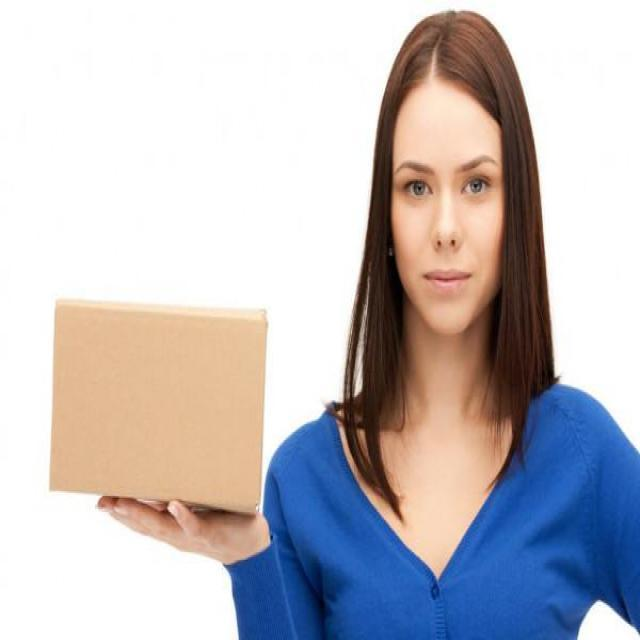box: (38, 288, 263, 522)
